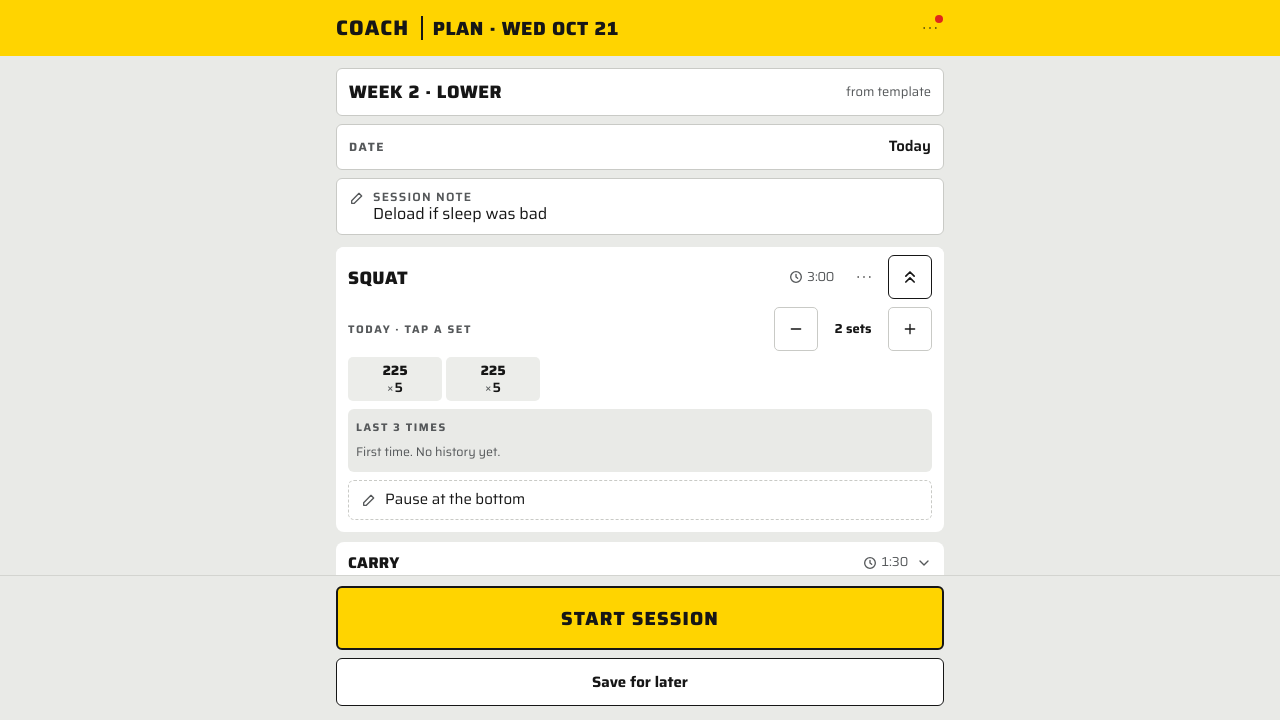
it: PlanView › from a template › won't save until blank reps are filled in
The image size is (1280, 720).
Click the button "Start session" at (640, 618), box x1=336 y1=586 x2=944 y2=650
(page scrolled)
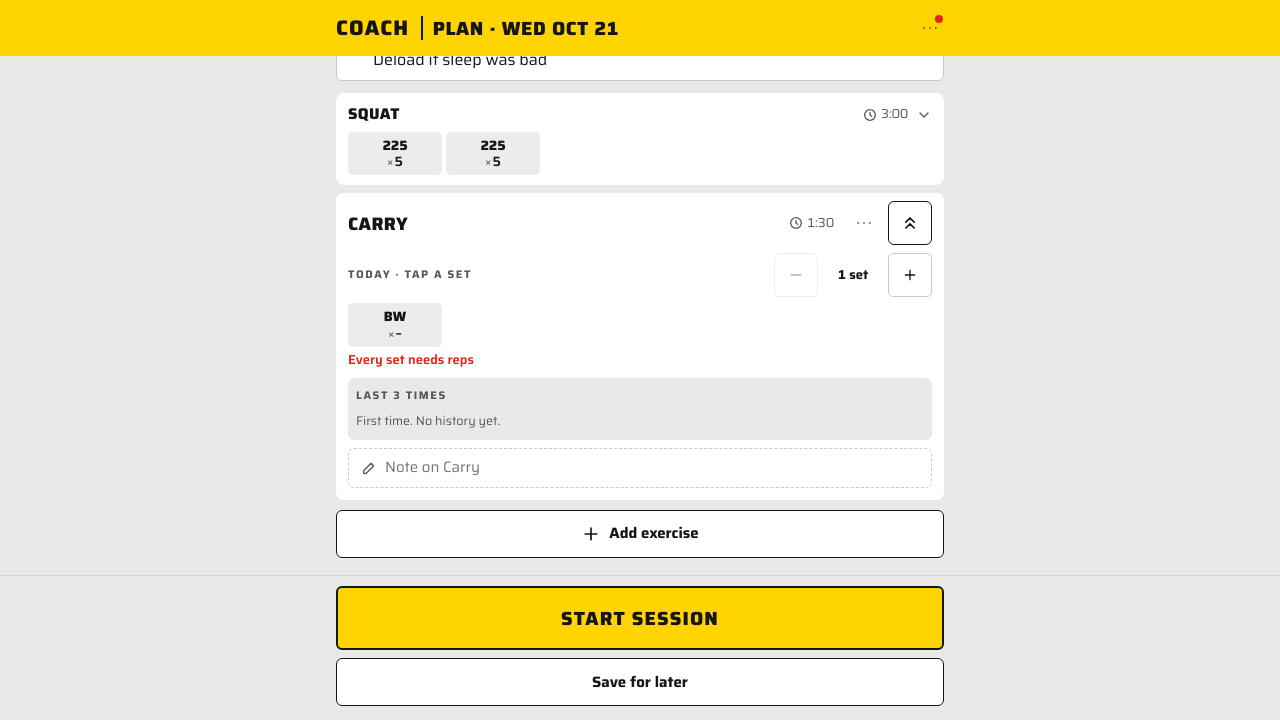
Check: the text "Every set needs reps" is shown, box x1=348 y1=349 x2=474 y2=370
